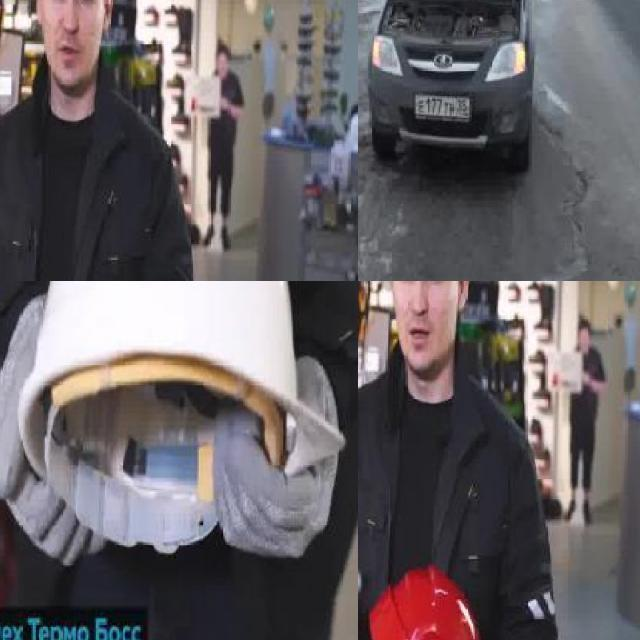apron: (0, 290, 106, 566), (211, 353, 342, 561)
